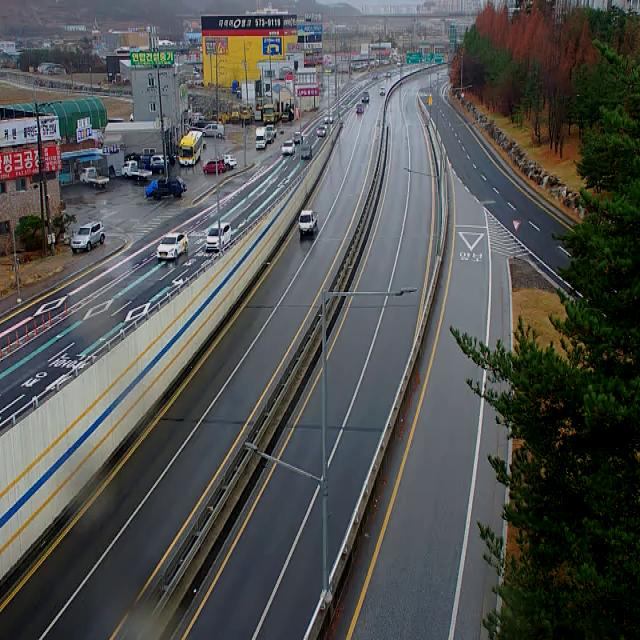Bus: (179, 130, 203, 166)
Car: (71, 220, 105, 254), (206, 222, 232, 251), (158, 234, 188, 258), (198, 124, 223, 137), (203, 161, 224, 174), (223, 155, 237, 170), (282, 140, 295, 156), (150, 155, 170, 165), (301, 144, 312, 158), (266, 125, 277, 138), (316, 125, 327, 136), (324, 113, 334, 124), (293, 132, 303, 143), (282, 112, 292, 122), (266, 133, 274, 144), (362, 92, 370, 102), (356, 104, 364, 114), (380, 86, 386, 96)
Truck: (151, 177, 187, 200), (80, 167, 109, 189), (122, 161, 152, 181), (138, 155, 164, 173), (298, 210, 318, 233), (262, 105, 278, 123), (256, 127, 266, 150)
